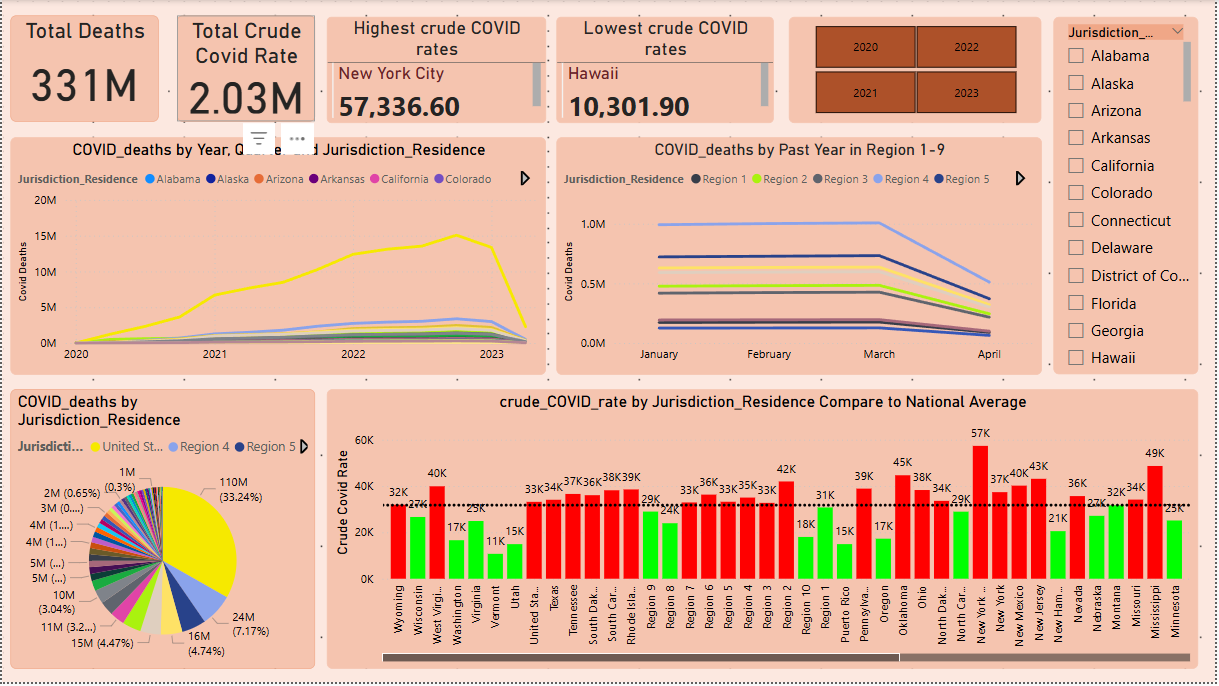

This screenshot's page, from the dashboard's own definition file:
{"tool":"powerbi","page":{"name":"rEPORT","canvas":[1280,720],"ordinal":0},"visuals":[{"type":"lineChart","title":"COVID_deaths by Year, Quarter and Jurisdiction_Residence","fields":{"Category":["COVID_19_Death_Data.data_period_end.Variation.Date Hierarchy.Year","COVID_19_Death_Data.data_period_end.Variation.Date Hierarchy.Quarter","COVID_19_Death_Data.data_period_end.Variation.Date Hierarchy.Month","COVID_19_Death_Data.data_period_end.Variation.Date Hierarchy.Day"],"Series":["COVID_19_Death_Data.Jurisdiction_Residence"],"Y":["Sum(COVID_19_Death_Data.COVID_deaths)"]},"box":[8.9,144,565.3,250.7],"z":0},{"type":"slicer","fields":{"Values":["COVID_19_Death_Data.Jurisdiction_Residence"]},"box":[1109.3,17.8,152.9,376.9],"z":1},{"type":"card","title":"Total Deaths","fields":{"Values":["Sum(COVID_19_Death_Data.COVID_deaths)"]},"box":[8.9,16,156.4,112],"z":2},{"type":"slicer","fields":{"Values":["COVID_19_Death_Data.data_period_end.Variation.Date Hierarchy.Year"]},"box":[830.2,17.8,266.7,112],"z":3},{"type":"clusteredColumnChart","title":"crude_COVID_rate by Jurisdiction_Residence Compare to National Average","fields":{"Category":["COVID_19_Death_Data.Jurisdiction_Residence"],"Y":["Sum(COVID_19_Death_Data.crude_COVID_rate)"]},"box":[343.1,410.7,919.1,295.1],"z":4},{"type":"lineChart","title":"COVID_deaths by Past Year in Region 1-9","fields":{"Category":["COVID_19_Death_Data.data_period_end.Variation.Date Hierarchy.Month","COVID_19_Death_Data.data_period_end.Variation.Date Hierarchy.Day"],"Y":["Sum(COVID_19_Death_Data.COVID_deaths)"],"Series":["COVID_19_Death_Data.Jurisdiction_Residence"]},"box":[584.9,144,512,250.7],"z":5},{"type":"multiRowCard","title":"Highest crude COVID rates","fields":{"Values":["COVID_19_Death_Data.Jurisdiction_Residence","Sum(COVID_19_Death_Data.crude_COVID_rate)"]},"box":[343.1,17.8,231.1,112],"z":6},{"type":"pieChart","title":"COVID_deaths by Jurisdiction_Residence","fields":{"Category":["COVID_19_Death_Data.Jurisdiction_Residence"],"Y":["Sum(COVID_19_Death_Data.COVID_deaths)"]},"box":[8.9,410.7,321.8,295.1],"z":8},{"type":"card","title":"Total Crude Covid Rate","fields":{"Values":["Sum(COVID_19_Death_Data.crude_COVID_rate)"]},"box":[184.9,16,145.8,112],"z":11},{"type":"multiRowCard","title":"Lowest crude COVID rates","fields":{"Values":["COVID_19_Death_Data.Jurisdiction_Residence","Sum(COVID_19_Death_Data.crude_COVID_rate)"]},"box":[584.9,17.8,229.3,112],"z":13}]}

Visuals, with their boxes in screenshot pixels (x1, y1, x2, y2), scaled from the page's 1280x720 canvas onto the 1219x686 screenshot:
"COVID_deaths by Year, Quarter and Jurisdiction_Residence" lineChart: [8,137,547,376]
slicer - COVID_19_Death_Data.Jurisdiction_Residence: [1056,17,1202,376]
"Total Deaths" card: [8,15,157,122]
slicer - COVID_19_Death_Data.data_period_end.Variation.Date Hierarchy.Year: [791,17,1045,124]
"crude_COVID_rate by Jurisdiction_Residence Compare to National Average" clusteredColumnChart: [327,391,1202,672]
"COVID_deaths by Past Year in Region 1-9" lineChart: [557,137,1045,376]
"Highest crude COVID rates" multiRowCard: [327,17,547,124]
"COVID_deaths by Jurisdiction_Residence" pieChart: [8,391,315,672]
"Total Crude Covid Rate" card: [176,15,315,122]
"Lowest crude COVID rates" multiRowCard: [557,17,775,124]
